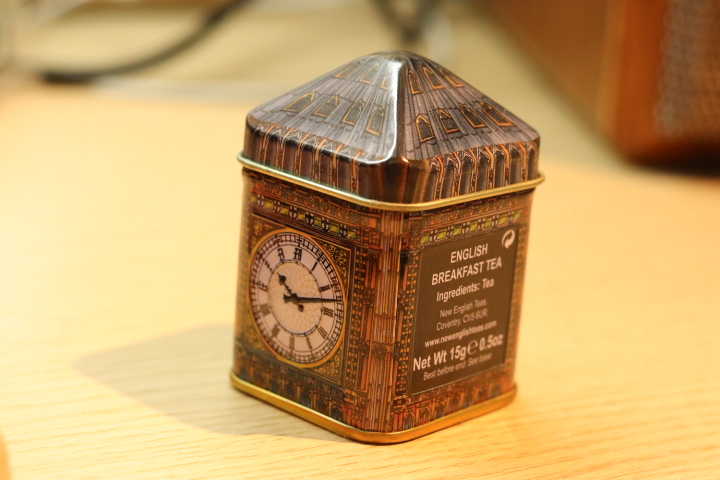Big Ben: (220, 43, 578, 460)
